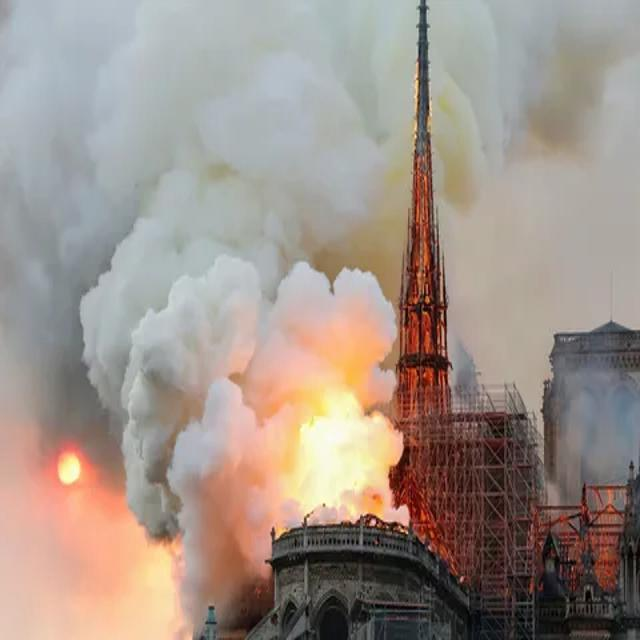Smoke: (80, 172, 413, 624)
